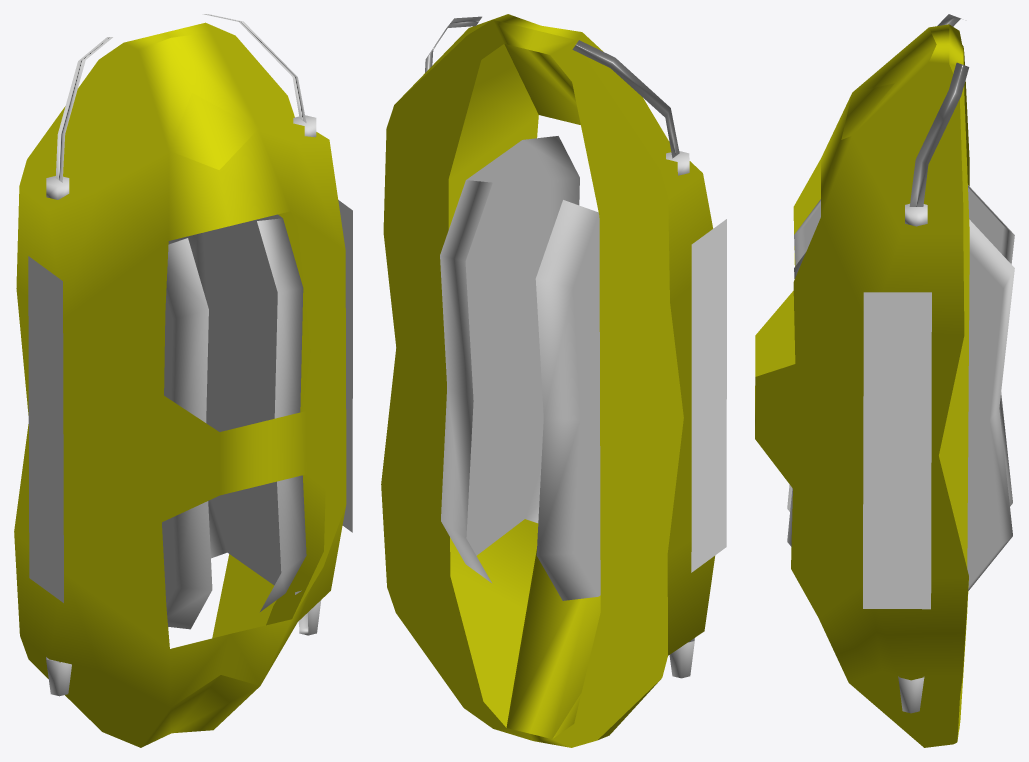
File: Shared_Caliper_Car_Ferrari_Testarossa_1984_Caliper03_L_FL.fbx
The picture shows the model from 3 angles, left to right: view 1: azimuth 30°, elevation 25°; view 2: azimuth 150°, elevation 25°; view 3: azimuth 270°, elevation 25°; orthographic projection. The views are drawn at different scales.
Parts seen in each view (by area): view 1: Brembo_Caliper03_L_FL 1; view 2: Brembo_Caliper03_L_FL 1; view 3: Brembo_Caliper03_L_FL 1.
Boxes of the visible parts, x1,y1,x2,y2 form: Brembo_Caliper03_L_FL 1: (14,14,352,747); Brembo_Caliper03_L_FL 1: (381,14,726,747); Brembo_Caliper03_L_FL 1: (755,14,1014,747).
Bounding box in the file's own units: 0.143 × 0.3305 × 0.1127.
